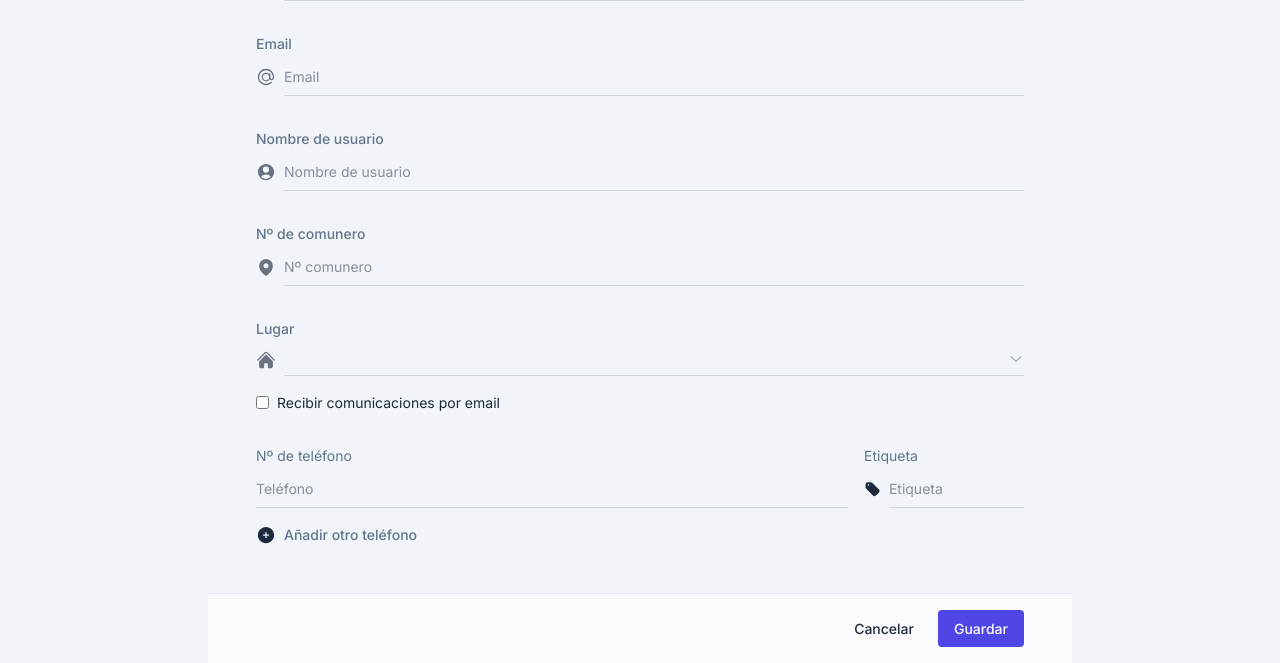
Test: ComuneroDetails › el alta exige nombre y dirección, y lo dice
(page scrolled)
Step 1. Click the button "Guardar" → (981, 628), box [938,610,1024,647]
(page scrolled)
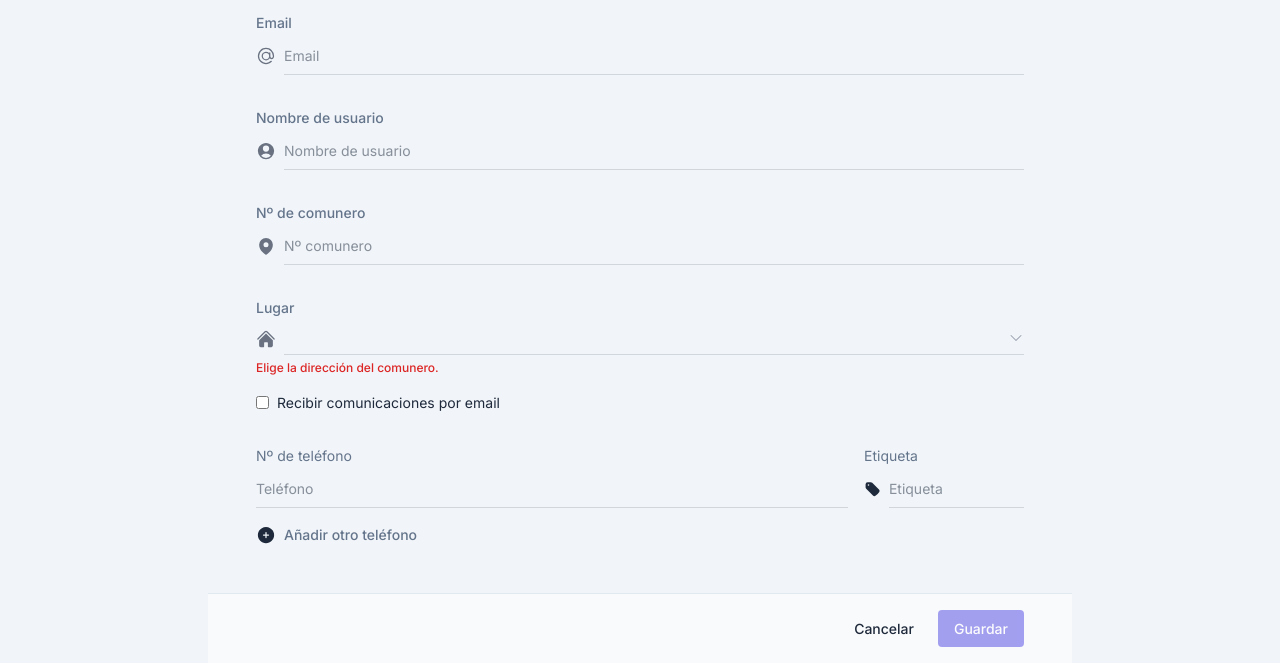
Now the text "Elige la dirección del comunero." is shown, box [256,360,439,375]
